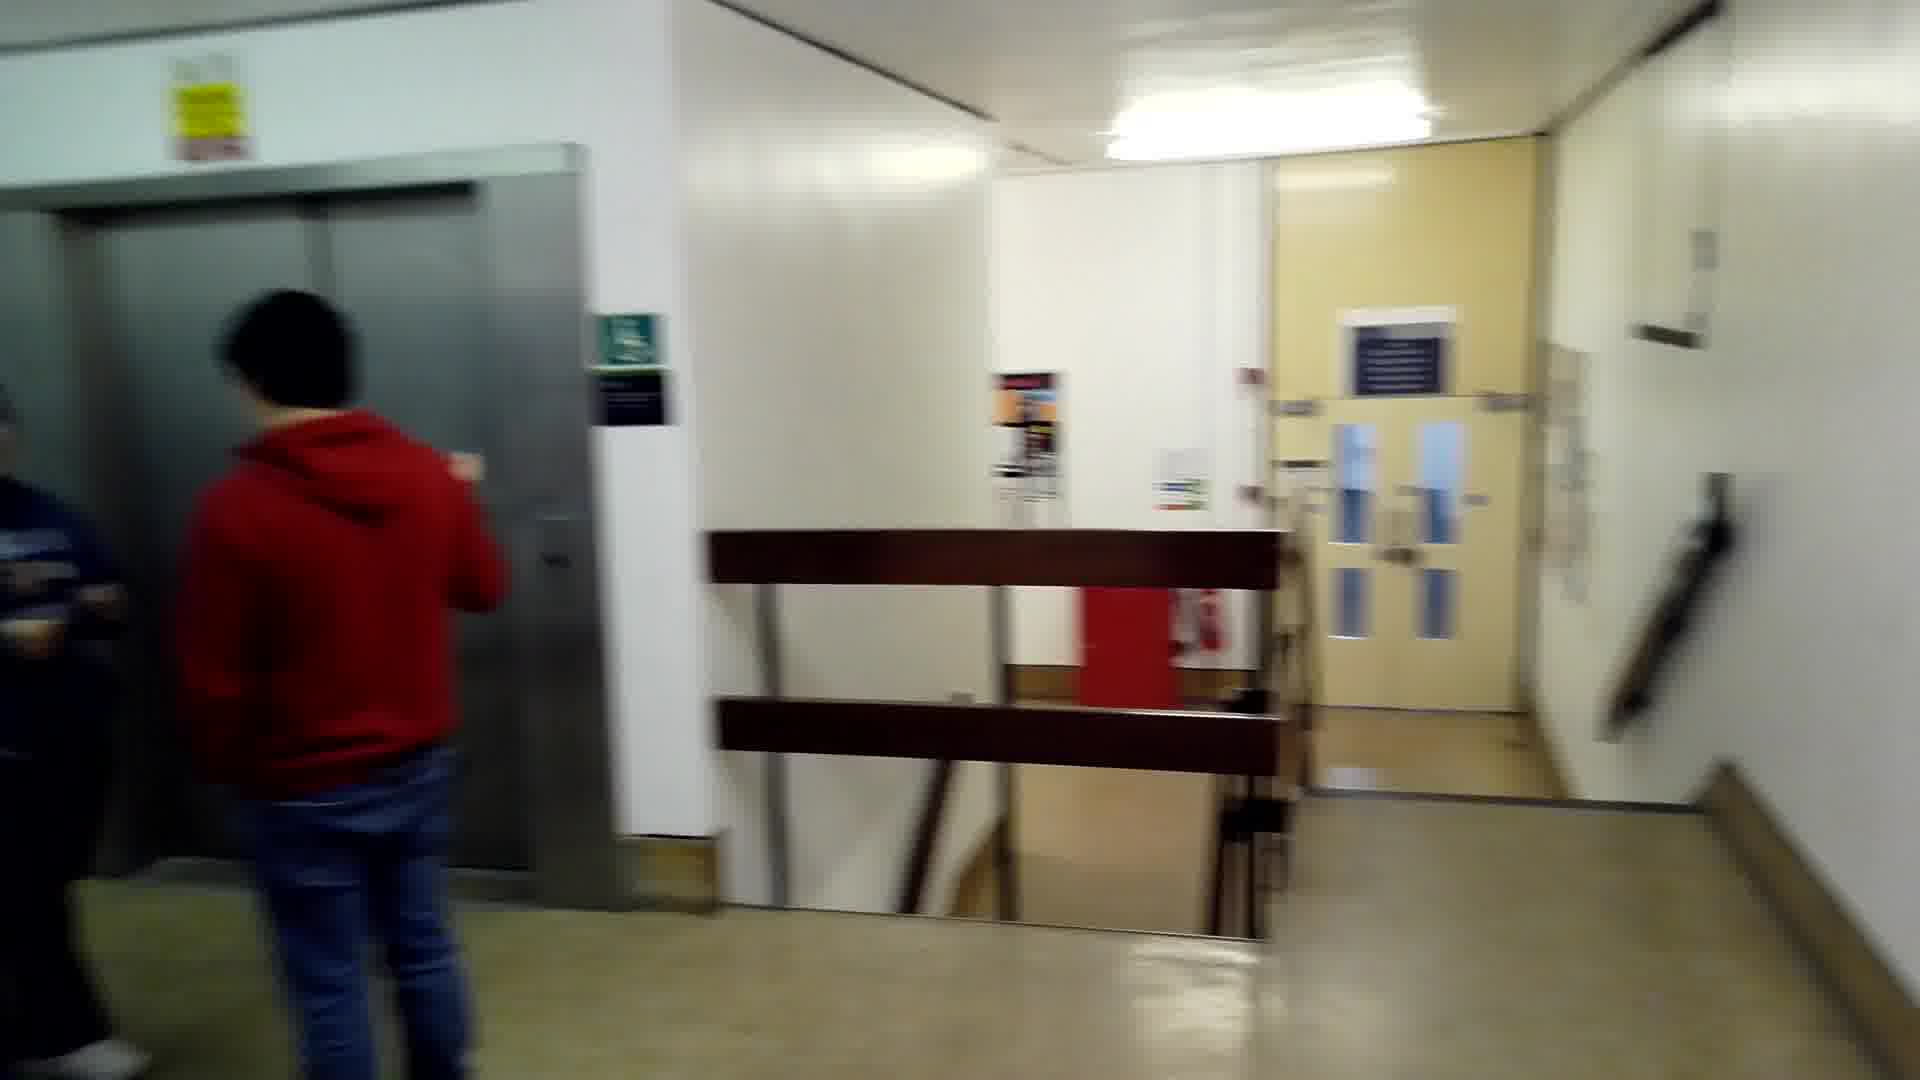Door: (1264, 395, 1524, 717)
Person: (171, 283, 506, 1080)
